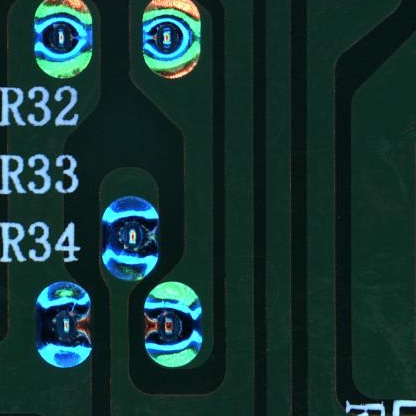spot: (35, 280, 93, 369), (145, 282, 203, 369), (101, 195, 159, 280), (140, 1, 201, 81), (32, 1, 93, 79)
